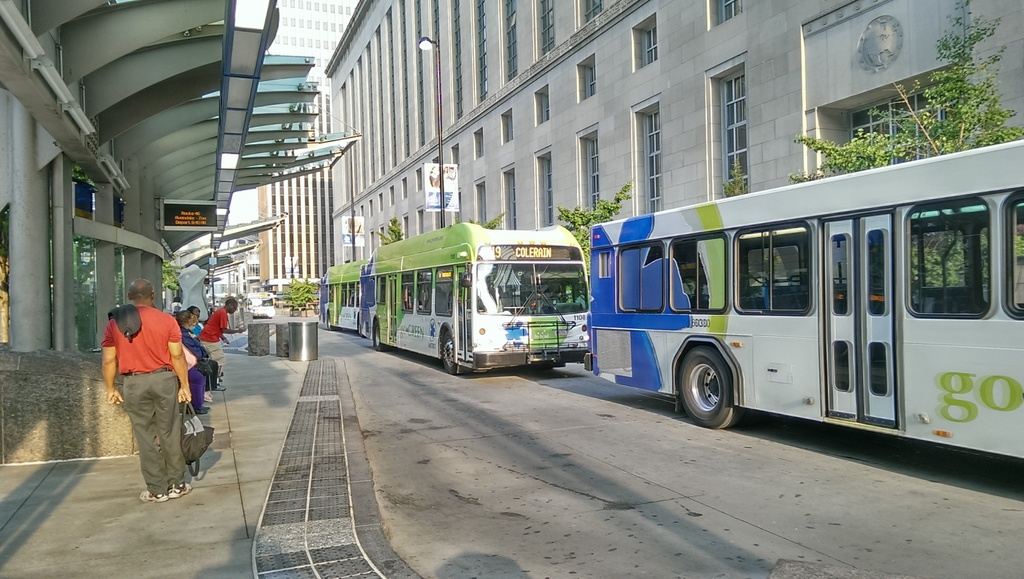Bus: (583, 138, 1023, 431), (373, 220, 586, 374), (319, 260, 371, 339), (263, 278, 323, 314)
